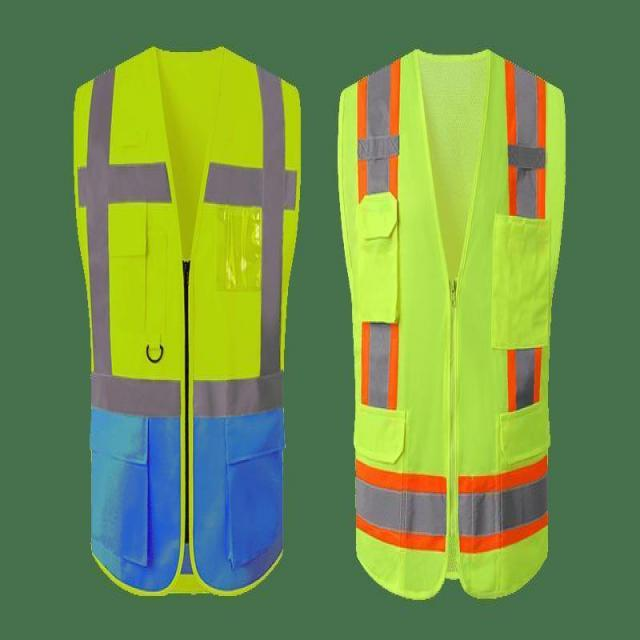vest: (66, 47, 302, 602), (335, 52, 568, 604)
